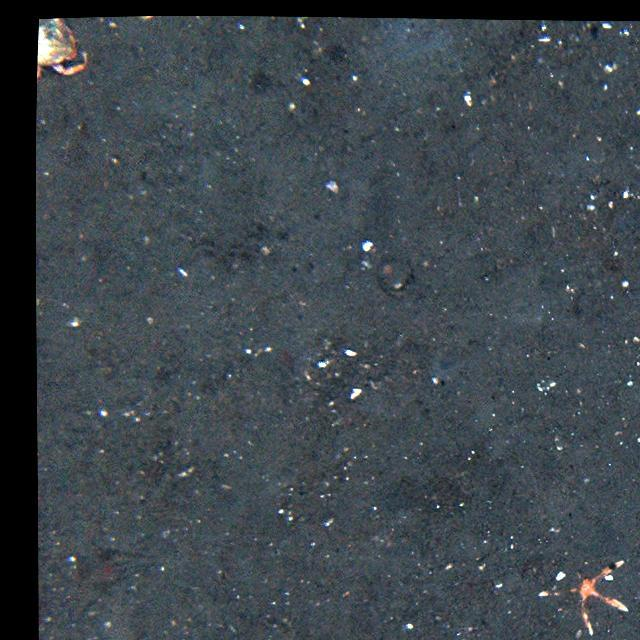crab: (41, 14, 92, 92)
